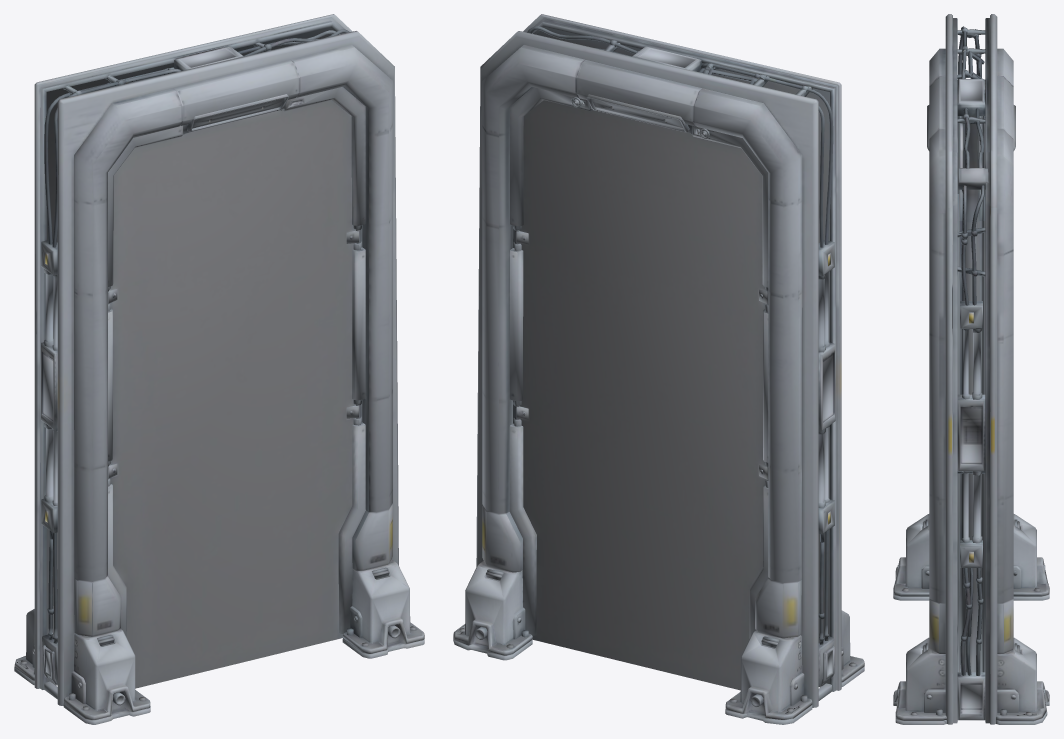
The model's file is tripo_convert_1bdbd4c4-4567-4e86-bcb8-c3d6a705fd70.fbx.
3 views of the same model, side by side, from view 1: azimuth 30°, elevation 25°; view 2: azimuth 150°, elevation 25°; view 3: azimuth 270°, elevation 25° (orthographic). The views are drawn at different scales.
Parts seen in each view (by area): view 1: tripo_part_2, tripo_part_1, tripo_part_28, tripo_part_21, tripo_part_0, tripo_part_9, tripo_part_24, tripo_part_58, tripo_part_59, tripo_part_41, tripo_part_15, tripo_part_11 (+3 smaller); view 2: tripo_part_28, tripo_part_12, tripo_part_2, tripo_part_26, tripo_part_11, tripo_part_10, tripo_part_25, tripo_part_58, tripo_part_0, tripo_part_59, tripo_part_13, tripo_part_42 (+1 smaller); view 3: tripo_part_1, tripo_part_12, tripo_part_2, tripo_part_28, tripo_part_8, tripo_part_9, tripo_part_10, tripo_part_0, tripo_part_61, tripo_part_11, tripo_part_60, tripo_part_59 (+15 smaller).
Boxes of the visible parts, box(x1,y1,x2,y2) form: tripo_part_2: box(57, 31, 398, 705); tripo_part_1: box(74, 44, 392, 636); tripo_part_28: box(34, 14, 352, 689); tripo_part_21: box(282, 87, 365, 633); tripo_part_0: box(63, 629, 150, 724); tripo_part_9: box(342, 559, 424, 658); tripo_part_24: box(107, 125, 183, 636); tripo_part_58: box(41, 342, 57, 430); tripo_part_59: box(174, 46, 243, 70); tripo_part_41: box(187, 94, 288, 132); tripo_part_15: box(44, 83, 109, 244); tripo_part_11: box(14, 609, 34, 685); tripo_part_28: box(476, 31, 818, 707); tripo_part_12: box(482, 45, 802, 638); tripo_part_2: box(523, 14, 841, 691); tripo_part_26: box(509, 87, 592, 635); tripo_part_11: box(725, 630, 812, 724); tripo_part_10: box(453, 561, 532, 660); tripo_part_25: box(692, 125, 768, 638); tripo_part_58: box(818, 342, 835, 431); tripo_part_0: box(841, 610, 864, 686); tripo_part_59: box(632, 46, 701, 71); tripo_part_13: box(754, 73, 833, 244); tripo_part_42: box(586, 94, 689, 132); tripo_part_1: box(929, 48, 945, 653); tripo_part_12: box(997, 48, 1013, 653); tripo_part_2: box(945, 14, 957, 724); tripo_part_28: box(985, 14, 997, 724); tripo_part_8: box(957, 116, 985, 672); tripo_part_9: box(893, 637, 946, 724); tripo_part_10: box(996, 637, 1049, 724); tripo_part_0: box(893, 514, 929, 600); tripo_part_61: box(957, 394, 985, 471); tripo_part_11: box(1013, 514, 1049, 600); tripo_part_60: box(957, 672, 985, 720); tripo_part_59: box(957, 79, 985, 115).
Size of the model in its own units: 0.5903 by 0.9995 by 0.2534.
1 material, 1 textured.
